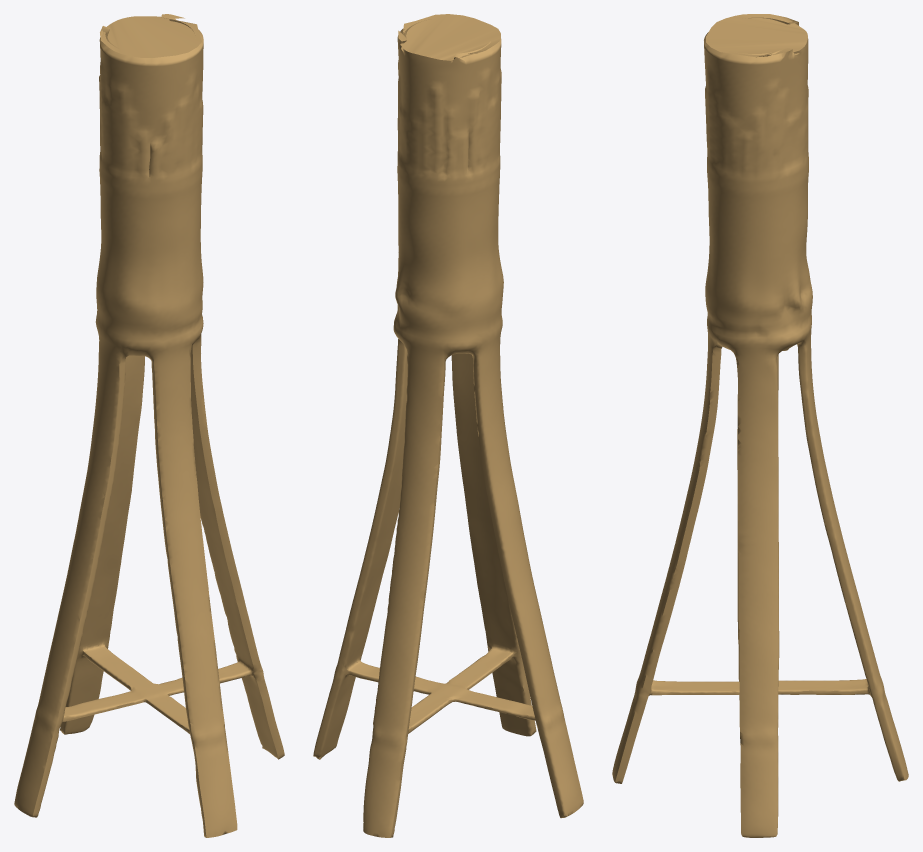
The model's file is bamboo-stand.glb.
3 renders of one model, left to right at view 1: azimuth 30°, elevation 25°; view 2: azimuth 150°, elevation 25°; view 3: azimuth 270°, elevation 25°, orthographic.
Parts seen in each view (by area): view 1: bamboo-stand; view 2: bamboo-stand; view 3: bamboo-stand.
Boxes of the visible parts, bbox=[...] form: bamboo-stand: bbox=[14, 14, 284, 837]; bamboo-stand: bbox=[313, 14, 583, 837]; bamboo-stand: bbox=[612, 14, 908, 837].
Size of the model in its own units: 0.1362 by 0.38 by 0.1369.
